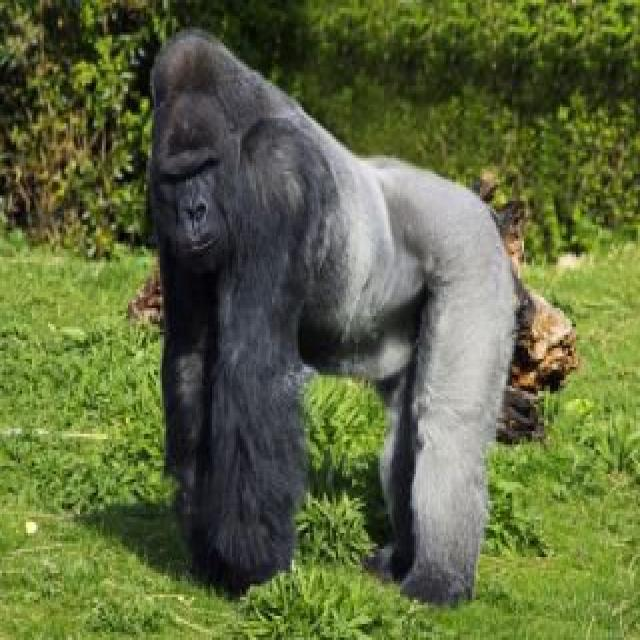Gorilla: (134, 18, 528, 605)
